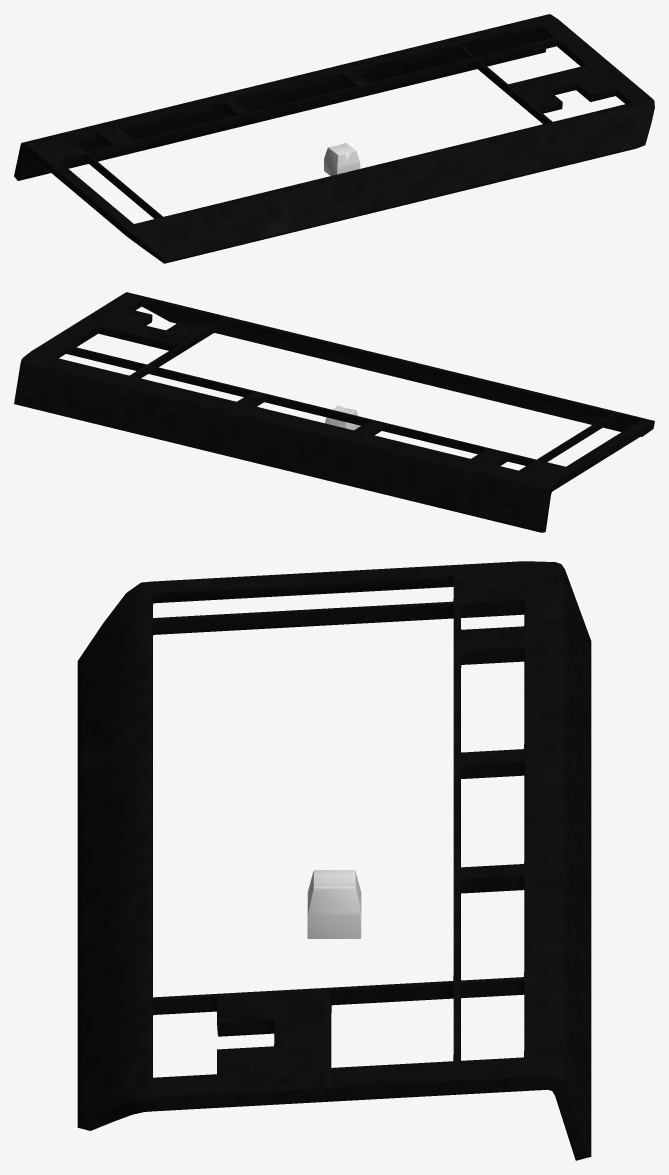
File: keyboard.glb
The picture shows the model from 3 angles, top to bottom: view 1: azimuth 30°, elevation 25°; view 2: azimuth 150°, elevation 25°; view 3: azimuth 270°, elevation 25°; orthographic projection. The views are drawn at different scales.
Parts seen in each view (by area): view 1: Chassis, Keycap; view 2: Chassis, Keycap; view 3: Chassis, Keycap.
Part boxes in pixels (box(x1,y1,x2,y2)): Chassis: box(14, 14, 654, 263); Keycap: box(324, 143, 360, 175); Chassis: box(14, 292, 654, 532); Keycap: box(325, 405, 360, 430); Chassis: box(77, 561, 591, 1160); Keycap: box(307, 870, 361, 938).
Bounding box in the file's own units: 0.48 × 0.0473 × 0.2024.
Materials: 1 (1 with a texture image).
